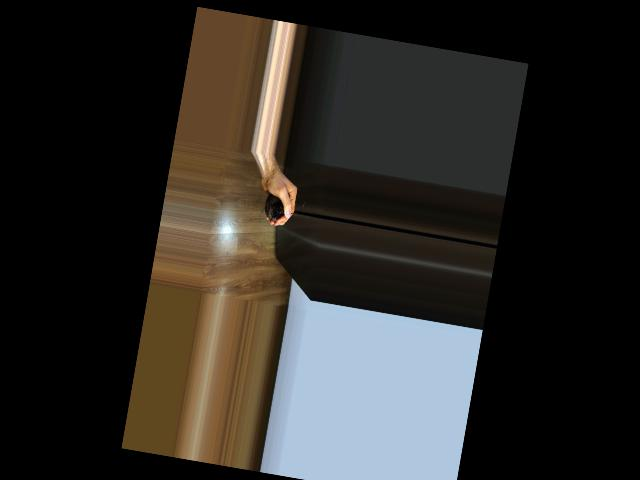beet: (262, 193, 305, 226)
